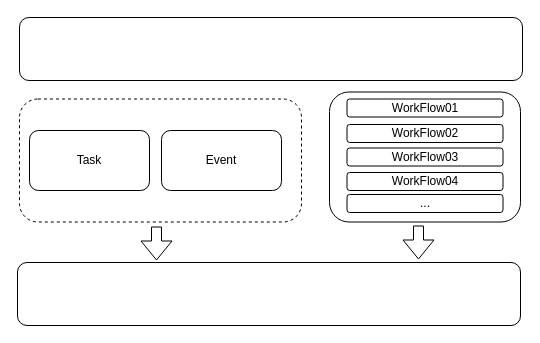
This 540x343 diagram has some shape labels left out. The shapes that lost their labels are listed below. From the top down, each one's box as (x1, y1, x2, y2) in pixels, then its label:
(18, 16, 522, 80): Resource Pool
(16, 262, 520, 326): Notification
